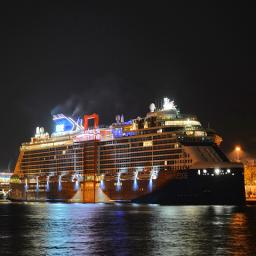cruises: (10, 97, 250, 210)
